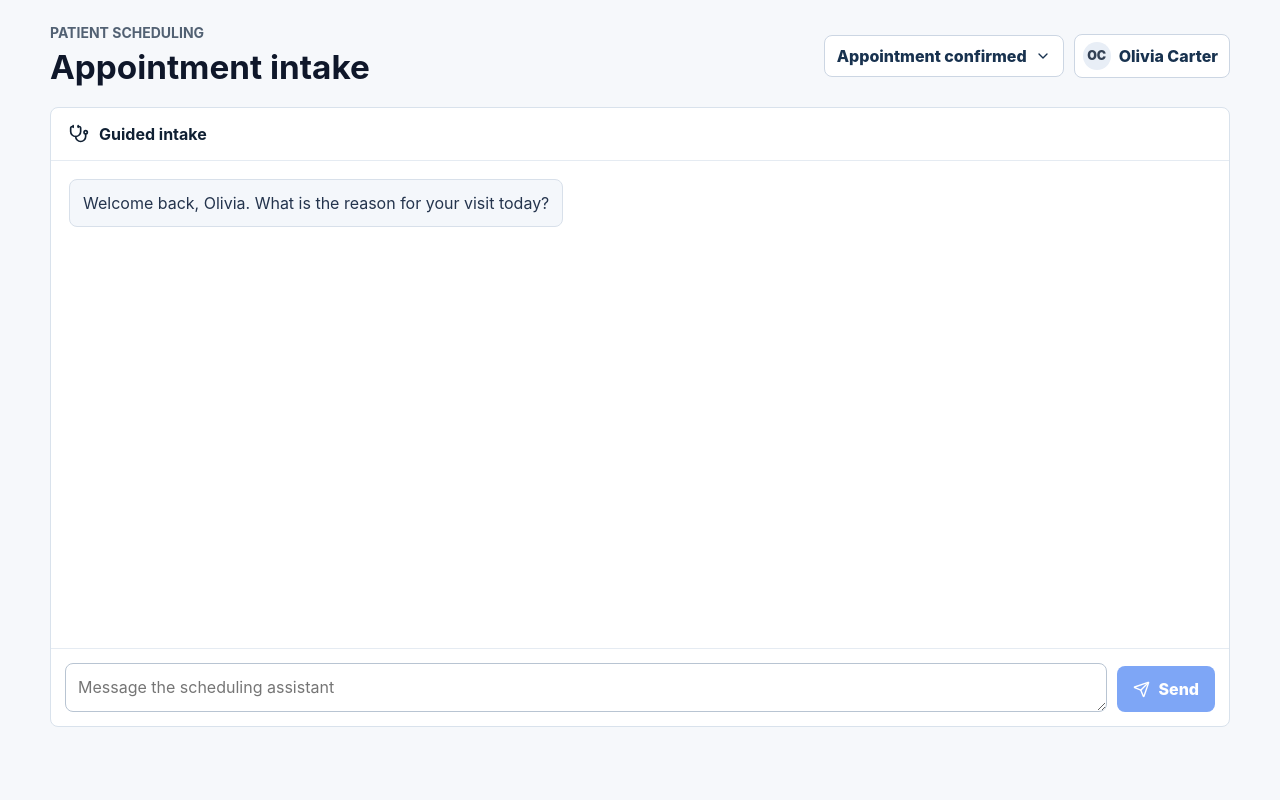
Test: keeps confirmed appointment details hidden until the status disclosure is expanded
This screenshot has width=1280, height=800.
Check: the text "Appointment 12" is not shown
Check: the text "+18055550187 / olivia.carter.phase2.demo@example.com" is not shown
Click the button with aria-label "scheduling progress: appointment confirmed": (944, 56) [824,34,1064,76]
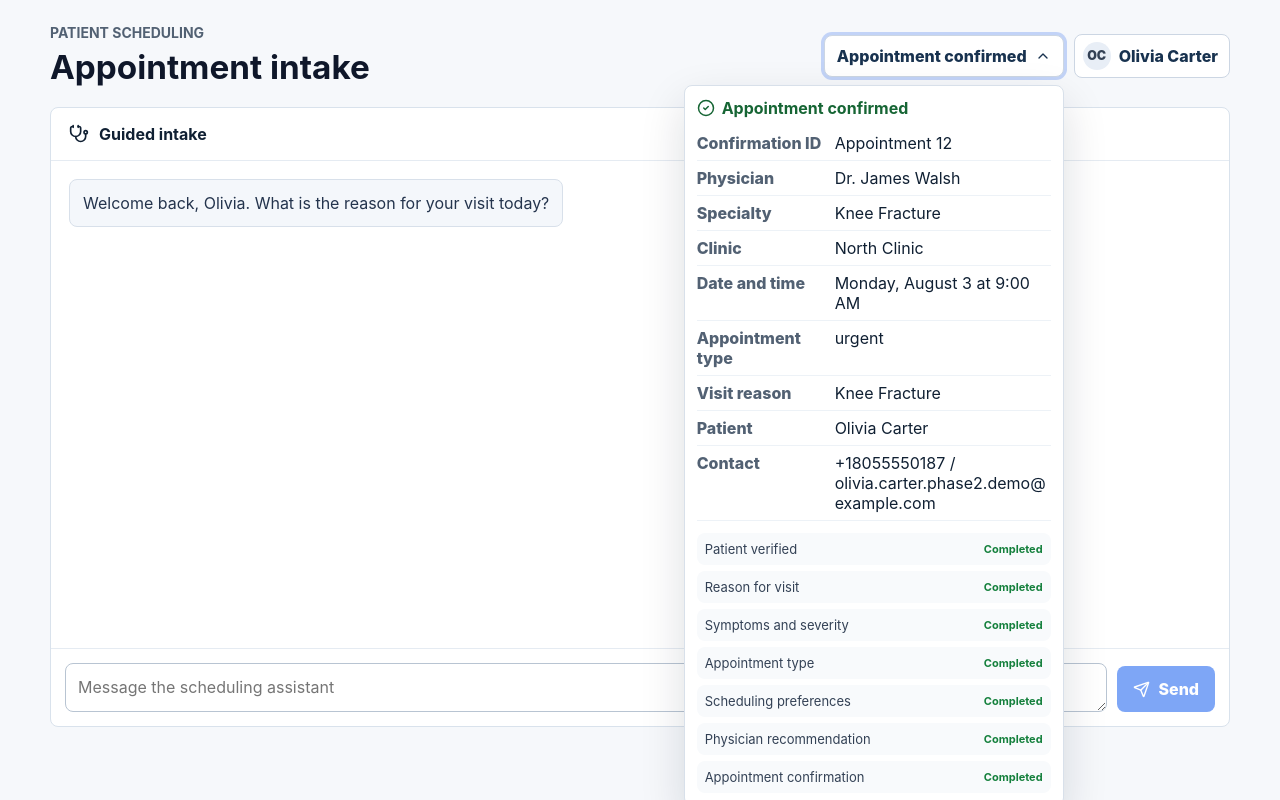
Check: the button with aria-label "scheduling progress: appointment confirmed" is expanded, box [824,34,1064,76]
Check: the text "Appointment 12" is shown, box [835,132,952,152]
Check: the text "Dr. James Walsh" is shown, box [835,168,960,188]
Press Escape
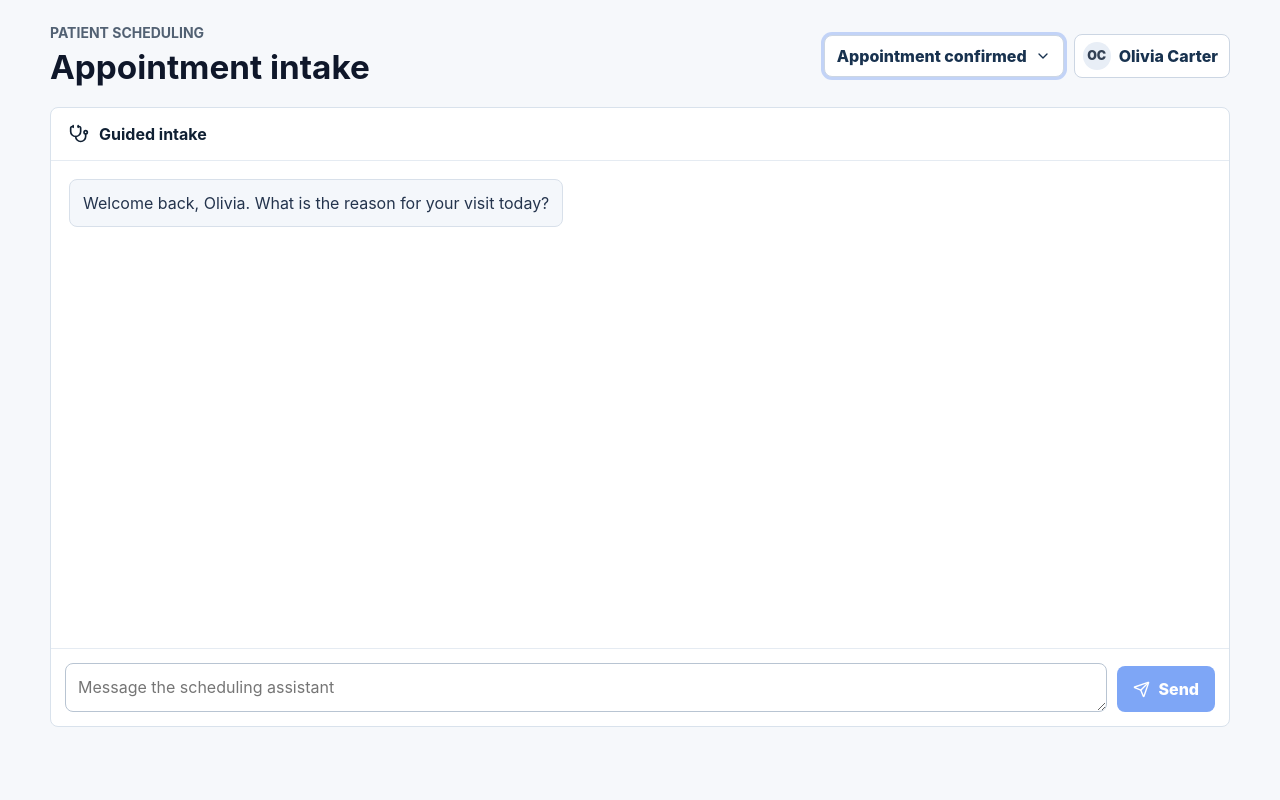
Check: the button with aria-label "scheduling progress: appointment confirmed" is collapsed, box [824,34,1064,76]
Check: the text "Appointment 12" is gone
